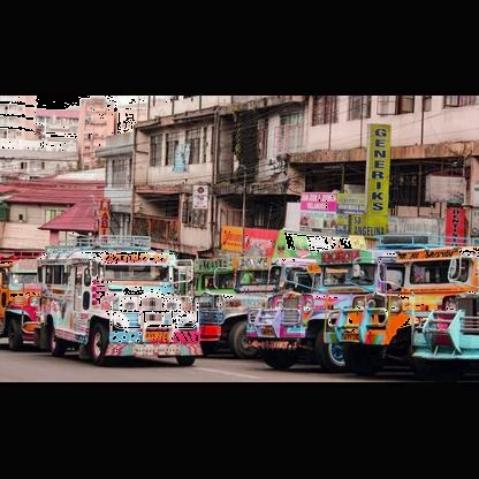jeepney: (43, 227, 205, 366)
